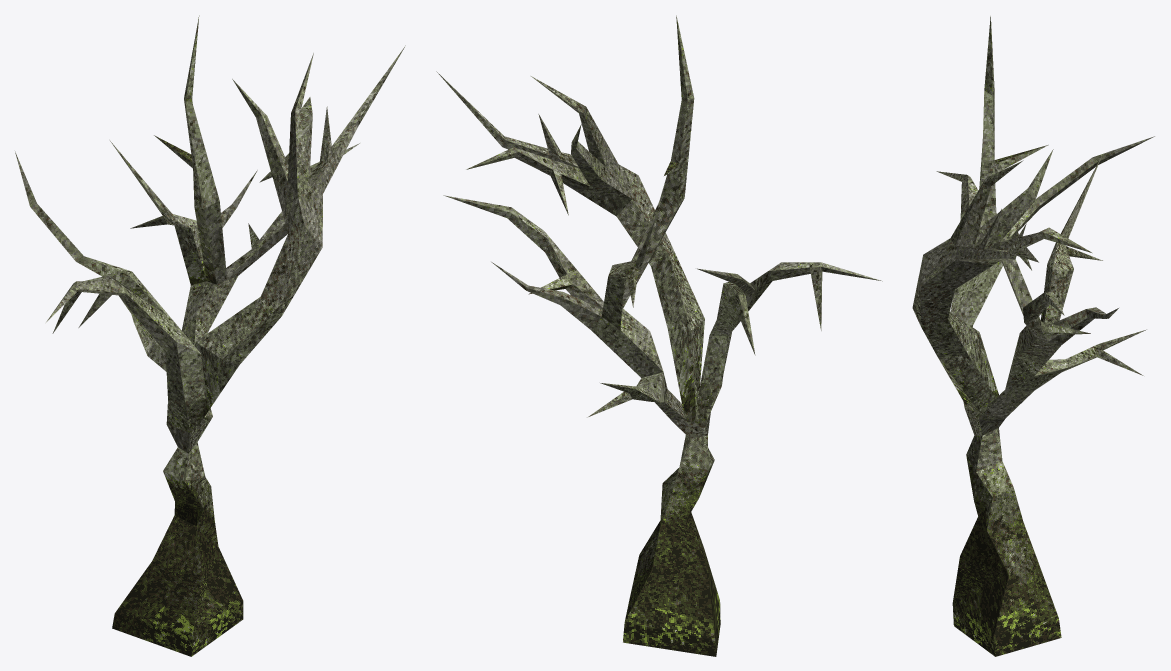
The model's file is tree.gltf.
3 views of the same model, side by side, from view 1: azimuth 30°, elevation 25°; view 2: azimuth 150°, elevation 25°; view 3: azimuth 270°, elevation 25° (orthographic).
Visible parts, largest first — view 1: Cube.012; view 2: Cube.012; view 3: Cube.012.
Part boxes in pixels (x1,y1,x2,y2): Cube.012: (15,15,405,656); Cube.012: (436,15,882,656); Cube.012: (912,16,1154,656).
Bounding box in the file's own units: 11.56 × 16.91 × 5.99.
1 material, 1 textured.
